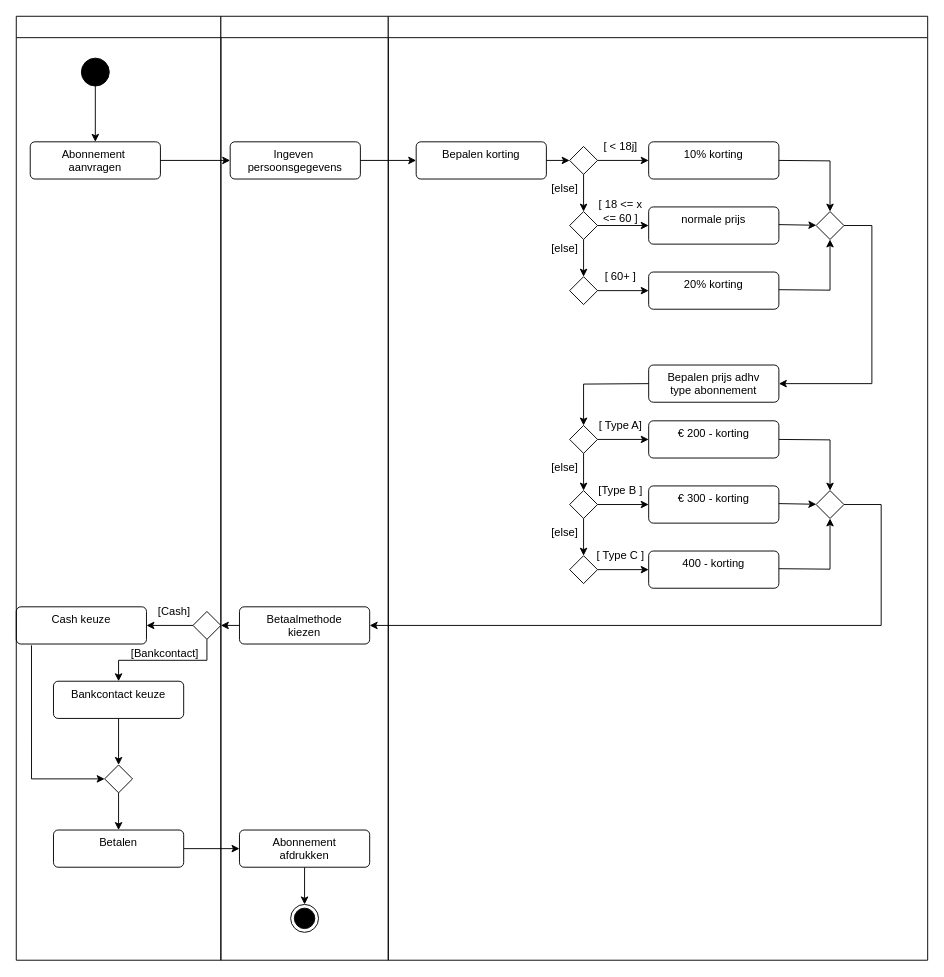
Image size: 944x977. Some labels were removed from this diagram. The shapes that lost their labels are listed below. From the top down, each one's box as (x1, y1, x2, y2) in pixels, then its label:
(15, 15, 221, 960): Klant
(220, 15, 388, 960): Medewerker De Lijn
(387, 15, 928, 960): Systeem
